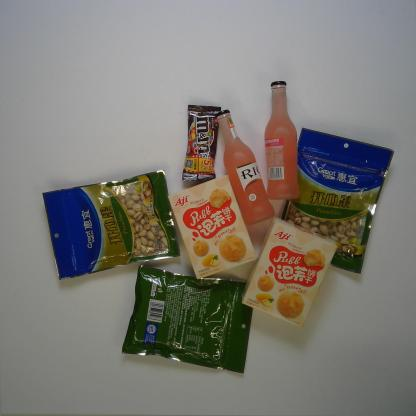Alcohol: (215, 108, 275, 227), (264, 81, 301, 200)
Chocolate: (181, 104, 222, 182)
Dessert: (242, 216, 337, 328), (168, 174, 258, 280)
Dried Fruit: (279, 127, 395, 275), (41, 169, 182, 281), (121, 265, 254, 374)
